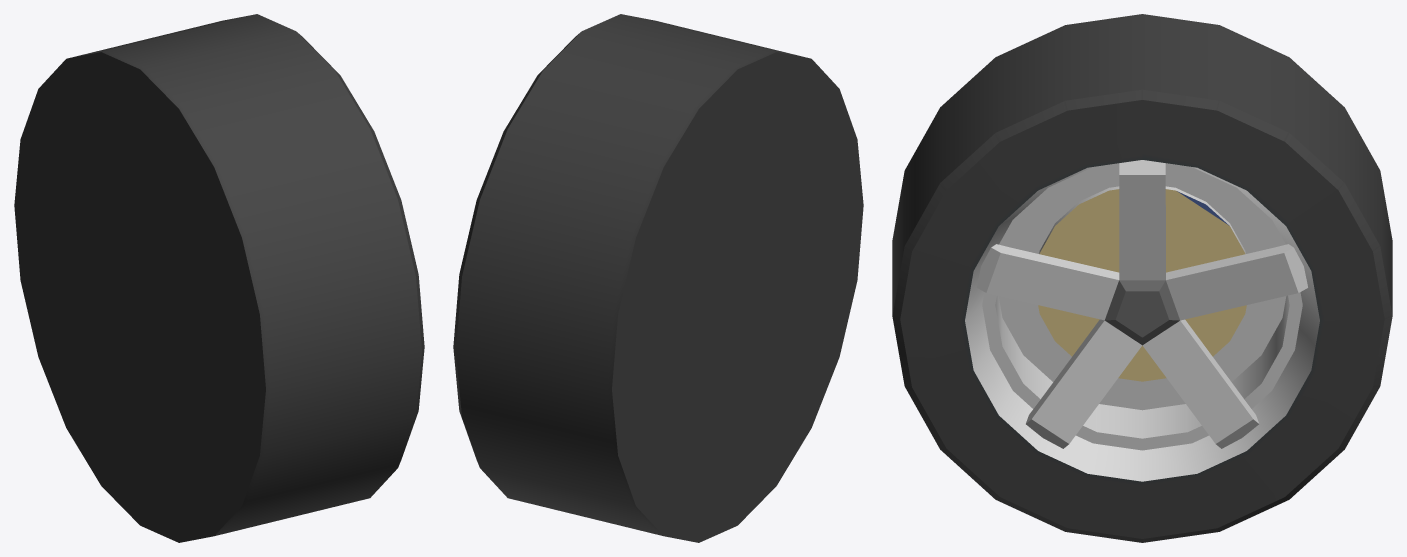
File: WheelMod_05.fbx
3 renders of one model, left to right at view 1: azimuth 30°, elevation 25°; view 2: azimuth 150°, elevation 25°; view 3: azimuth 270°, elevation 25°, orthographic.
Parts seen in each view (by area): view 1: FrontLeftWheel_LOD00; view 2: FrontLeftWheel_LOD00; view 3: FrontLeftWheel_LOD00.
Boxes of the visible parts, box(x1,y1,x2,y2) form: FrontLeftWheel_LOD00: box(14, 14, 424, 542); FrontLeftWheel_LOD00: box(453, 14, 863, 542); FrontLeftWheel_LOD00: box(892, 14, 1392, 542).
Size of what is drawn, in the model's own units: 29.68 by 78.32 by 78.32.
